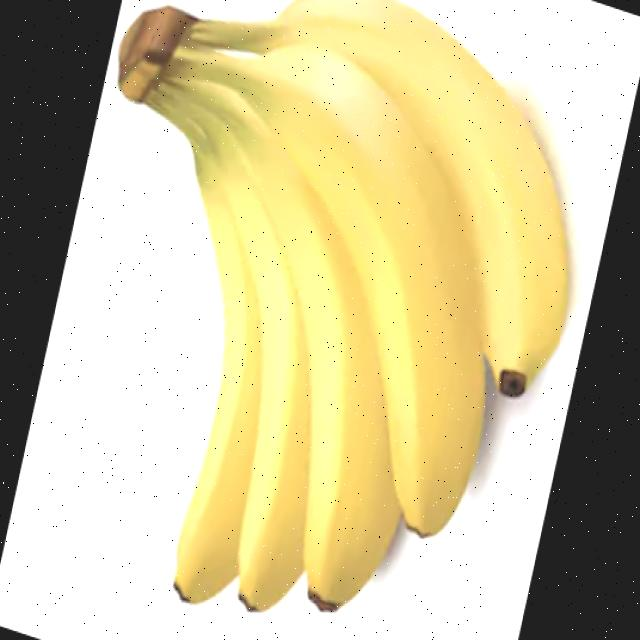god quality banana: (121, 1, 568, 610)
